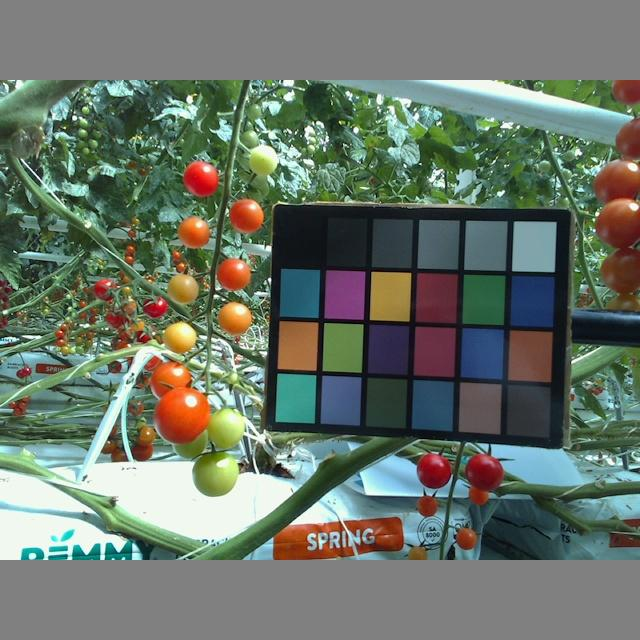green: (191, 453, 240, 499), (208, 406, 244, 450), (245, 143, 280, 175), (171, 433, 208, 460)
pink: (153, 388, 212, 445), (594, 156, 640, 211), (596, 196, 640, 251), (149, 361, 193, 405), (601, 247, 640, 294), (215, 256, 254, 291), (228, 198, 264, 235), (163, 319, 197, 354), (216, 301, 252, 334), (177, 215, 211, 249), (166, 272, 201, 304), (616, 113, 640, 158), (609, 79, 640, 106), (417, 492, 439, 517), (465, 485, 491, 506), (456, 526, 478, 550), (409, 544, 429, 561)
red: (183, 160, 219, 196), (465, 457, 504, 490), (417, 452, 452, 488)
